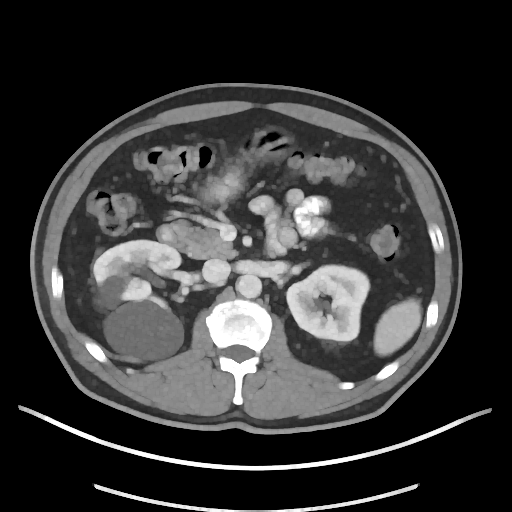Lesion: (101, 299, 187, 366)
